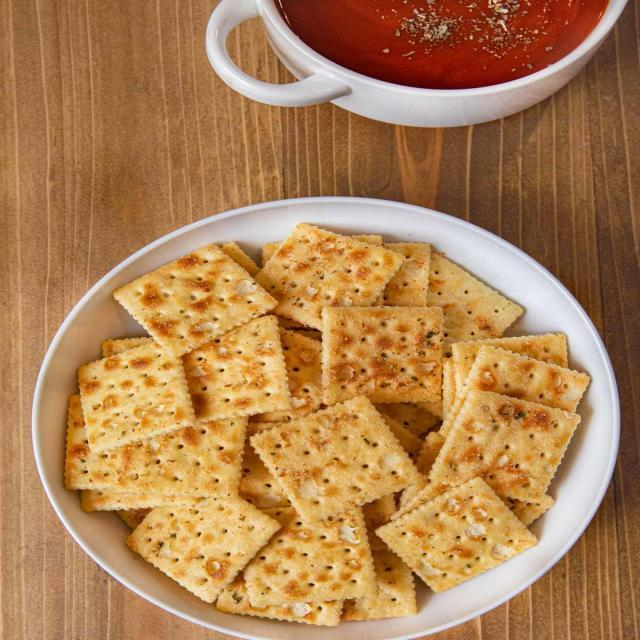Cracker: (250, 394, 428, 522), (372, 473, 537, 593), (102, 244, 278, 354), (428, 390, 586, 504), (309, 301, 455, 409), (247, 223, 400, 325), (73, 345, 199, 437)
